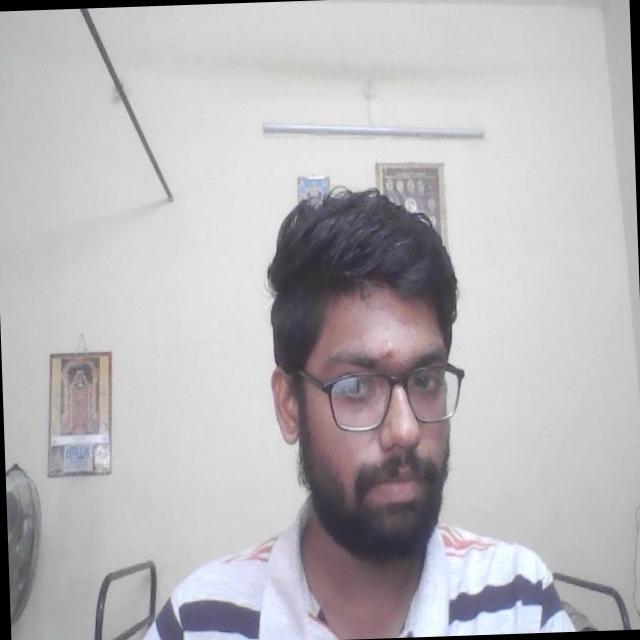Focused: (316, 300, 471, 530)
